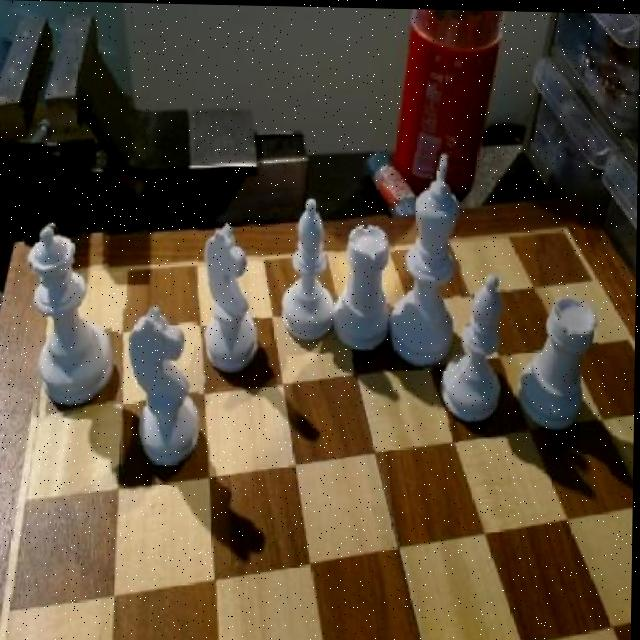black-rook: (436, 266, 509, 422), (277, 191, 335, 339)
white-bishop: (386, 147, 463, 370)
white-king: (118, 305, 203, 477), (197, 213, 262, 383)
white-pawn: (25, 219, 116, 416)
white-queen: (510, 297, 599, 437), (330, 214, 395, 357)
